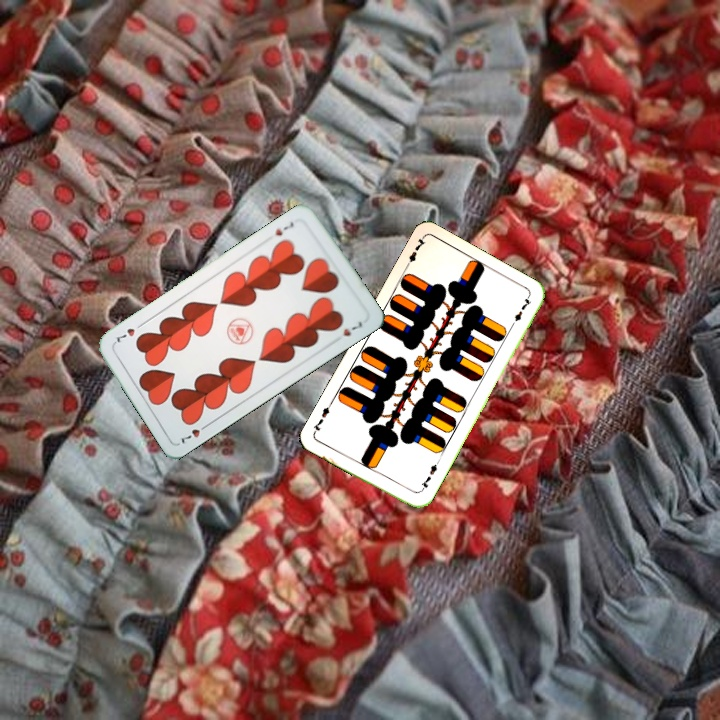E7: (401, 234, 428, 271), (415, 458, 441, 495)
H7: (177, 419, 212, 447), (271, 218, 297, 238)
